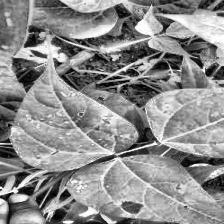ALS: (1, 61, 131, 168), (70, 156, 206, 224), (145, 85, 224, 154), (33, 0, 146, 13)
